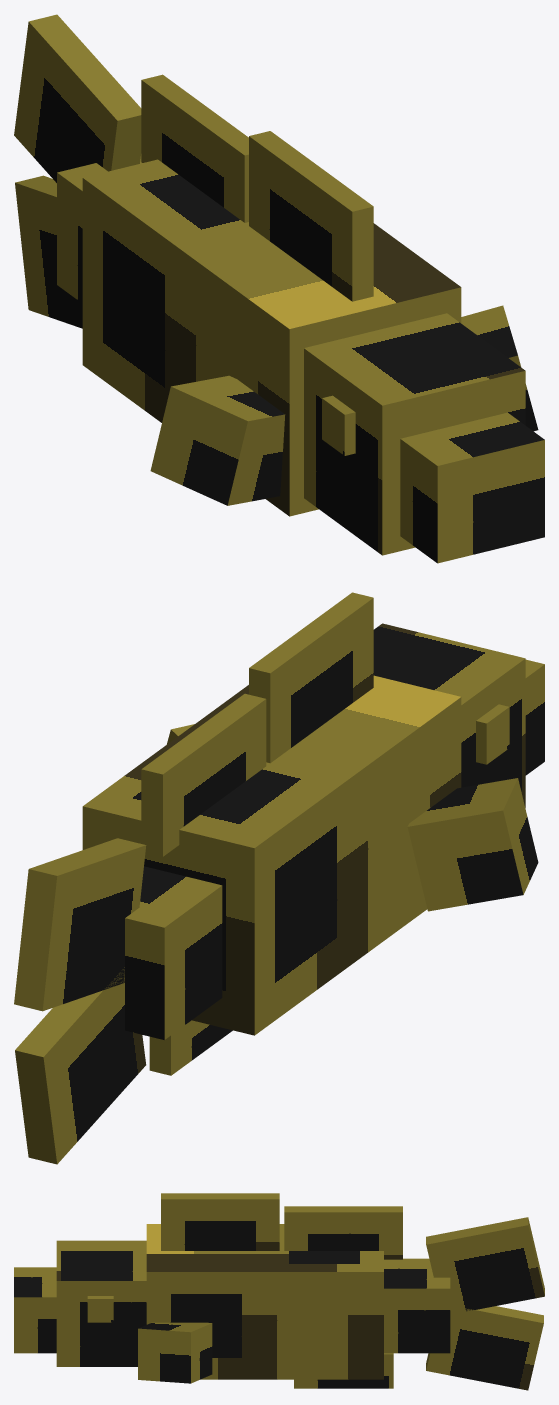
Rendered from fish_terpug.glb.
The picture shows the model from 3 angles, top to bottom: view 1: azimuth 30°, elevation 25°; view 2: azimuth 150°, elevation 25°; view 3: azimuth 270°, elevation 25°; orthographic projection. The views are drawn at different scales.
Parts seen in each view (by area): view 1: torso, head, snout, caudal_upper, dorsal_fin_front, pectoral_l, dorsal_fin_rear, caudal_lower, peduncle, pectoral_r, eye_l; view 2: torso, caudal_upper, caudal_lower, peduncle, pectoral_l, dorsal_fin_front, head, dorsal_fin_rear, anal_fin, snout, eye_l; view 3: torso, head, caudal_upper, caudal_lower, dorsal_fin_front, peduncle, dorsal_fin_rear, pectoral_r, snout, anal_fin, eye_r.
Boxes of the visible parts, left/top/right/bottom form: torso: left=82, top=159, right=461, bottom=516; head: left=304, top=313, right=525, bottom=555; snout: left=400, top=412, right=544, bottom=563; caudal_upper: left=14, top=14, right=141, bottom=182; dorsal_fin_front: left=249, top=131, right=373, bottom=301; pectoral_l: left=150, top=375, right=285, bottom=505; dorsal_fin_rear: left=141, top=74, right=248, bottom=222; caudal_lower: left=15, top=175, right=82, bottom=328; peduncle: left=57, top=154, right=142, bottom=303; pectoral_r: left=461, top=305, right=538, bottom=431; eye_l: left=322, top=395, right=355, bottom=455; torso: left=82, top=675, right=461, bottom=1035; caudal_upper: left=14, top=838, right=146, bottom=1011; caudal_lower: left=15, top=967, right=146, bottom=1164; peduncle: left=125, top=866, right=222, bottom=1039; pectoral_l: left=407, top=778, right=538, bottom=911; dorsal_fin_front: left=249, top=592, right=373, bottom=763; head: left=373, top=623, right=525, bottom=807; dorsal_fin_rear: left=141, top=693, right=266, bottom=856; anal_fin: left=149, top=1020, right=232, bottom=1075; snout: left=525, top=659, right=544, bottom=775; eye_l: left=476, top=704, right=509, bottom=764; torso: left=146, top=1224, right=383, bottom=1379; head: left=56, top=1240, right=146, bottom=1366; caudal_upper: left=426, top=1217, right=544, bottom=1314; caudal_lower: left=426, top=1305, right=543, bottom=1390; dorsal_fin_front: left=161, top=1193, right=279, bottom=1250; peduncle: left=384, top=1258, right=450, bottom=1353; dorsal_fin_rear: left=284, top=1206, right=402, bottom=1259; pectoral_r: left=138, top=1322, right=212, bottom=1383; snout: left=14, top=1267, right=56, bottom=1353; anal_fin: left=294, top=1353, right=393, bottom=1388; eye_r: left=87, top=1296, right=113, bottom=1322.
Size of the model in its own units: 0.3255 by 0.2765 by 0.6996.
1 material, 1 textured.
